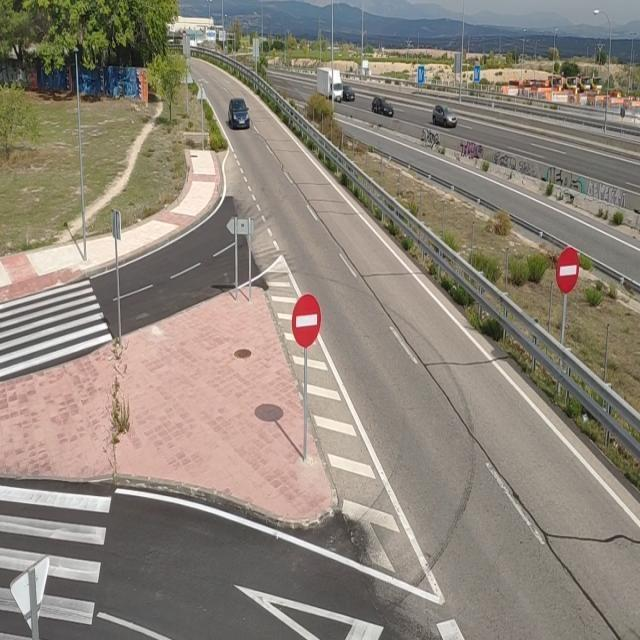Car: (228, 97, 250, 130), (432, 104, 458, 128), (371, 95, 395, 117), (342, 84, 356, 102)
Truck: (316, 66, 344, 103)
